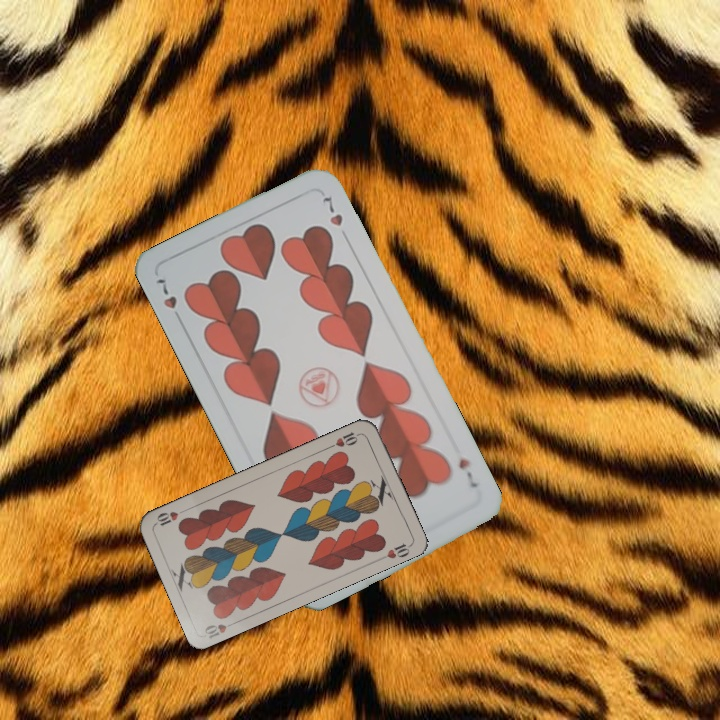H10: (200, 617, 240, 641), (325, 428, 364, 451)
H7: (151, 274, 186, 327), (454, 454, 480, 491)
